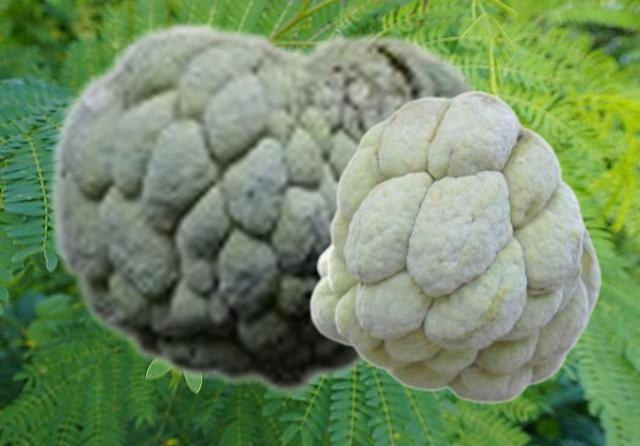atis: (47, 19, 491, 396), (308, 89, 601, 403)
